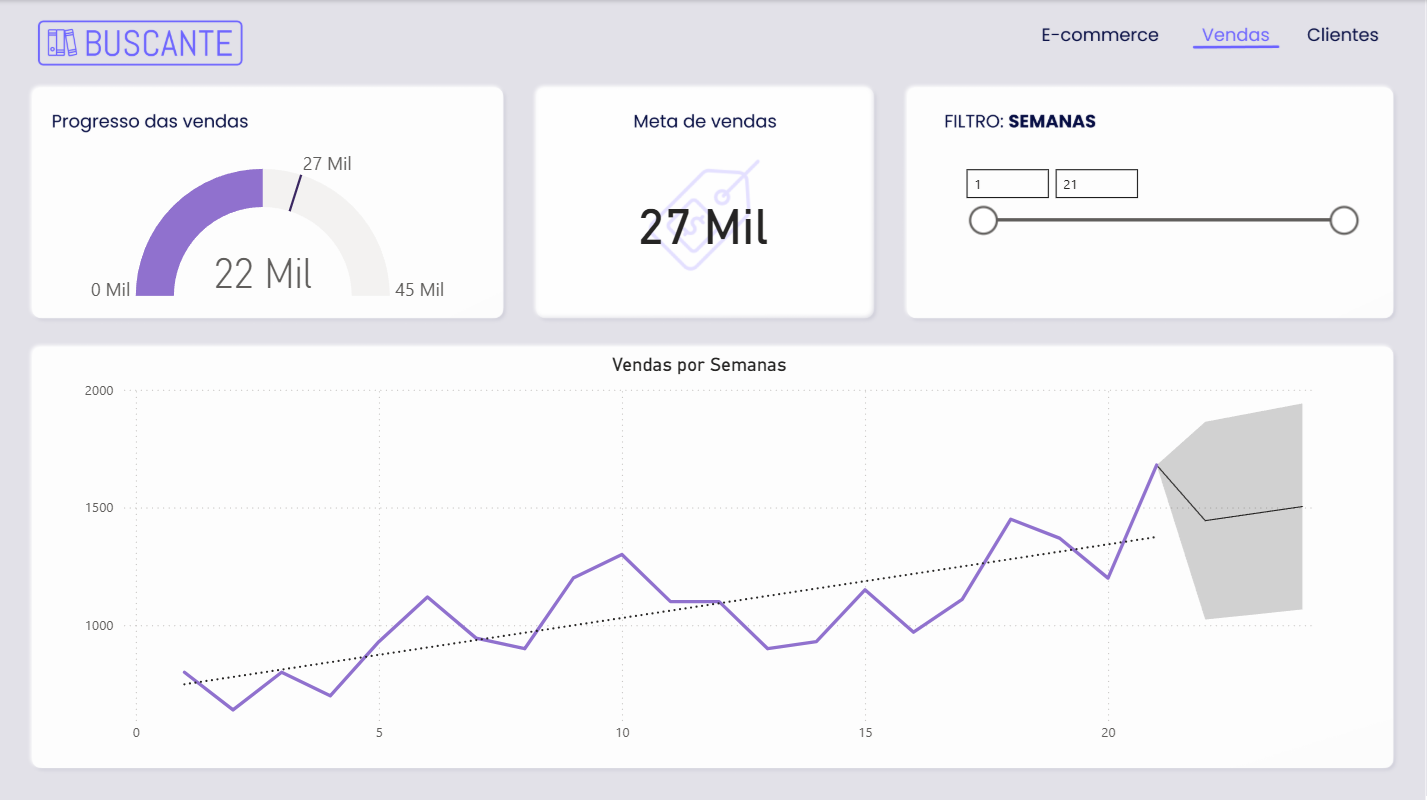

This screenshot's page, from the dashboard's own definition file:
{"tool":"powerbi","page":{"name":"vendas","canvas":[1280,720],"ordinal":1},"visuals":[{"type":"gauge","fields":{"Y":["Sum(Vendas por semana.Vendas)"],"TargetValue":["Sum(Vendas por semana.Meta de vendas)"]},"box":[34.4,121.1,412.2,154.4],"z":0},{"type":"card","fields":{"Values":["Sum(Vendas por semana.Meta de vendas)"]},"box":[495.6,121.1,271.1,154.4],"z":1000},{"type":"slicer","fields":{"Values":["Vendas por semana.Semanas"]},"box":[854.4,142.2,373.3,141.1],"z":2000},{"type":"lineChart","title":"Vendas por Semanas","fields":{"Category":["Vendas por semana.Semanas"],"Y":["Sum(Vendas por semana.Vendas)"]},"box":[71.1,316.7,1113.3,358.9],"z":3000},{"type":"actionButton","box":[926.7,10,123.3,40],"z":4000},{"type":"actionButton","box":[1155.6,10,104.4,40],"z":5000}]}

Visuals, with their boxes in screenshot pixels (x1, y1, x2, y2), scaled from the page's 1280x720 canvas onto the 1427x800 screenshot:
gauge - Sum(Vendas por semana.Vendas) x Sum(Vendas por semana.Meta de vendas): {"left": 38, "top": 135, "right": 498, "bottom": 306}
card - Sum(Vendas por semana.Meta de vendas): {"left": 553, "top": 135, "right": 855, "bottom": 306}
slicer - Vendas por semana.Semanas: {"left": 953, "top": 158, "right": 1369, "bottom": 315}
"Vendas por Semanas" lineChart: {"left": 79, "top": 352, "right": 1320, "bottom": 751}
actionButton: {"left": 1033, "top": 11, "right": 1171, "bottom": 56}
actionButton: {"left": 1288, "top": 11, "right": 1405, "bottom": 56}
